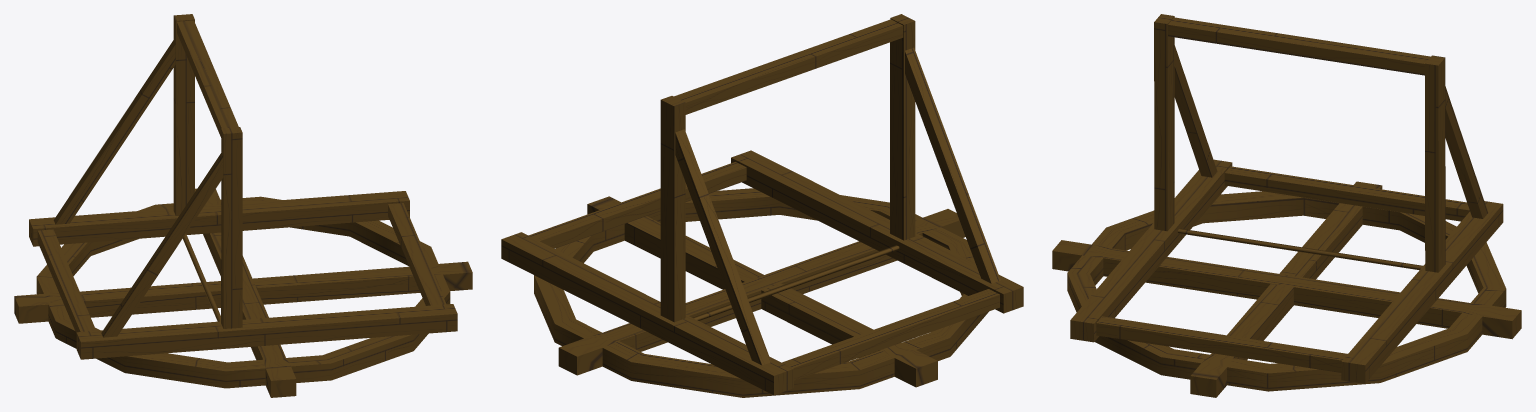
The model's file is Katapult_Gestell.fbx.
3 renders of one model, left to right at view 1: azimuth 30°, elevation 25°; view 2: azimuth 150°, elevation 25°; view 3: azimuth 270°, elevation 25°, orthographic. The views are drawn at different scales.
Parts seen in each view (by area): view 1: Katapult Gestell; view 2: Katapult Gestell; view 3: Katapult Gestell.
Boxes of the visible parts, x1=… form: Katapult Gestell: x1=14, y1=14, x2=472, y2=397; Katapult Gestell: x1=501, y1=14, x2=1023, y2=397; Katapult Gestell: x1=1052, y1=14, x2=1521, y2=397.
Size of the model in its own units: 222 by 122 by 213.
